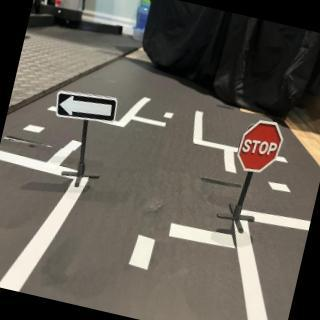sign_oneway_left: (53, 83, 122, 131)
sign_stop: (235, 116, 288, 179)
